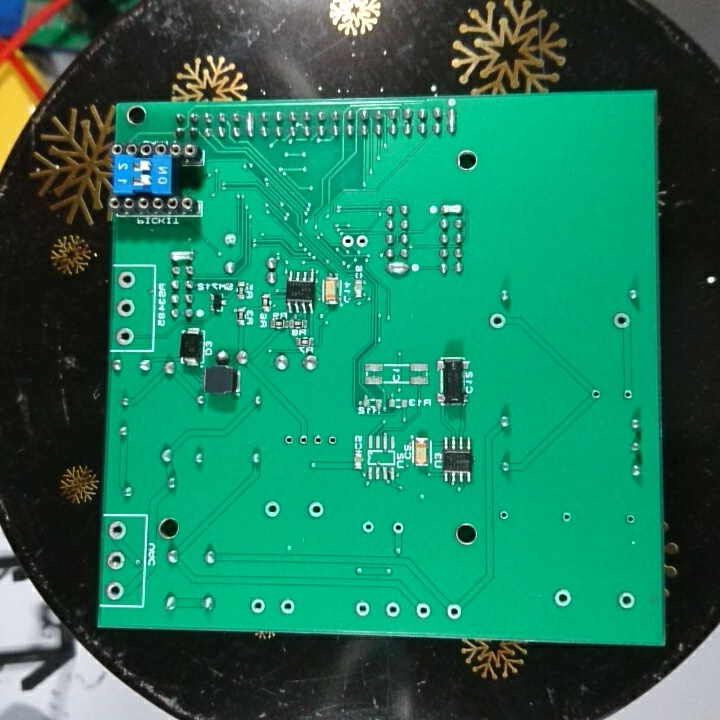F: (113, 323, 139, 348), (106, 519, 130, 545), (116, 295, 138, 323), (116, 268, 139, 294), (104, 549, 127, 573), (487, 310, 510, 333), (552, 585, 573, 610), (611, 309, 633, 332), (444, 600, 466, 623), (261, 498, 284, 520), (104, 578, 127, 600), (305, 500, 327, 521), (278, 596, 299, 618), (247, 595, 269, 616), (616, 589, 636, 612), (353, 598, 373, 620), (359, 518, 377, 538), (414, 600, 430, 621), (384, 599, 400, 620), (325, 428, 339, 452), (221, 231, 239, 248), (497, 507, 514, 524), (624, 510, 639, 529), (340, 233, 355, 252), (587, 386, 604, 402), (559, 509, 576, 524), (391, 520, 406, 537), (282, 432, 296, 450), (620, 386, 635, 402), (312, 430, 324, 450), (297, 429, 308, 449), (355, 234, 368, 249)
P: (168, 246, 197, 266), (384, 260, 412, 280), (444, 105, 459, 136), (244, 109, 257, 141), (439, 201, 466, 216)
